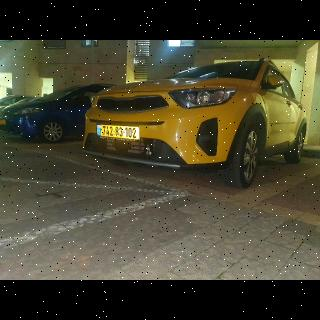LicensePlate: (100, 125, 139, 139)
